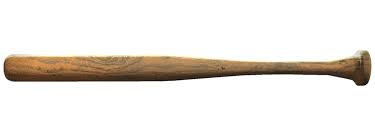bat: (2, 48, 375, 88)
